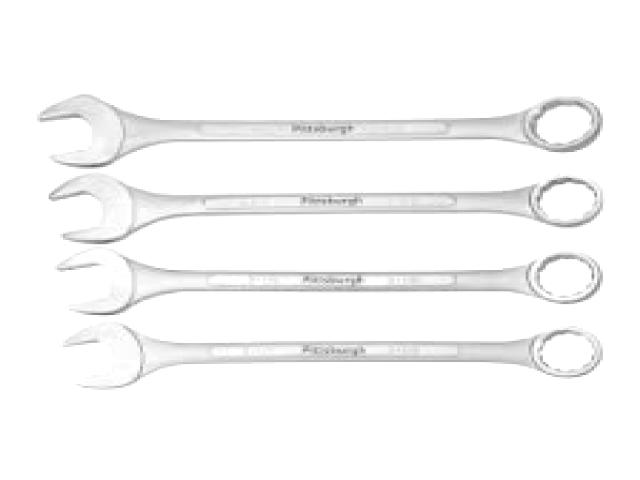Wrench: (39, 95, 602, 166), (50, 172, 604, 242), (62, 322, 602, 389), (58, 248, 602, 314)
